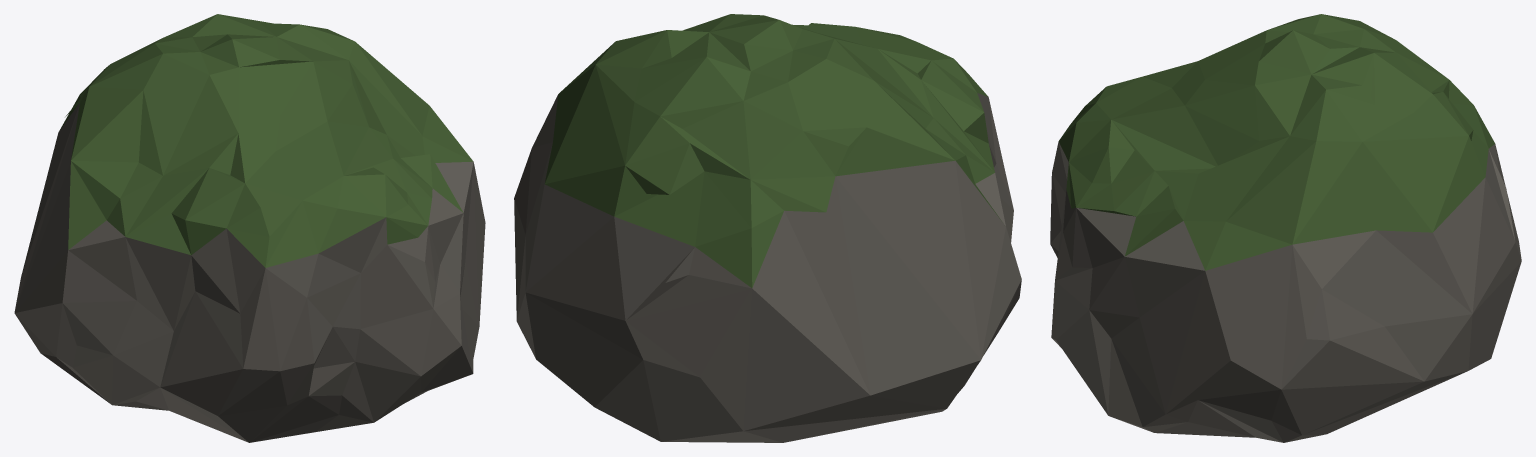
File: rockball-2.glb
3 views of the same model, side by side, from view 1: azimuth 30°, elevation 25°; view 2: azimuth 150°, elevation 25°; view 3: azimuth 270°, elevation 25° (orthographic). The views are drawn at different scales.
Parts seen in each view (by area): view 1: output_unwrapped; view 2: output_unwrapped; view 3: output_unwrapped.
Boxes of the visible parts, x1,y1,x2,y2 form: output_unwrapped: (14, 14, 485, 442); output_unwrapped: (514, 14, 1021, 442); output_unwrapped: (1050, 14, 1521, 442).
Bounding box in the file's own units: 2.01 × 1.49 × 1.87.
